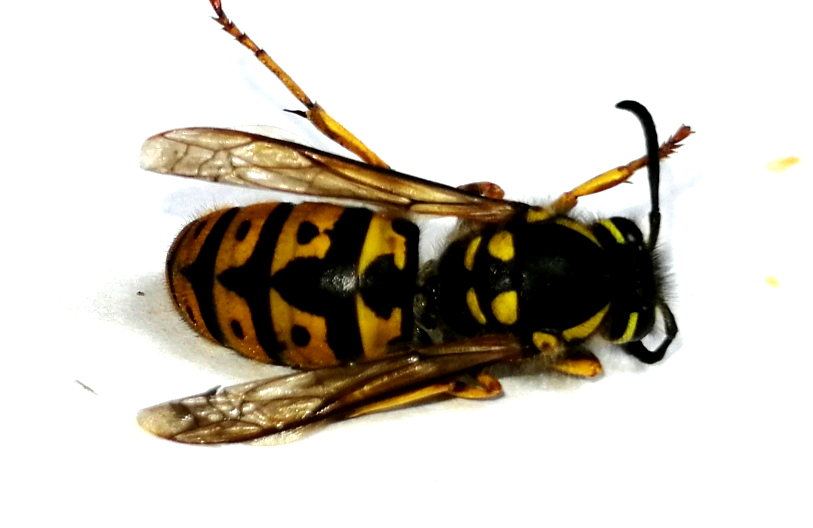chax: (124, 1, 707, 455)
